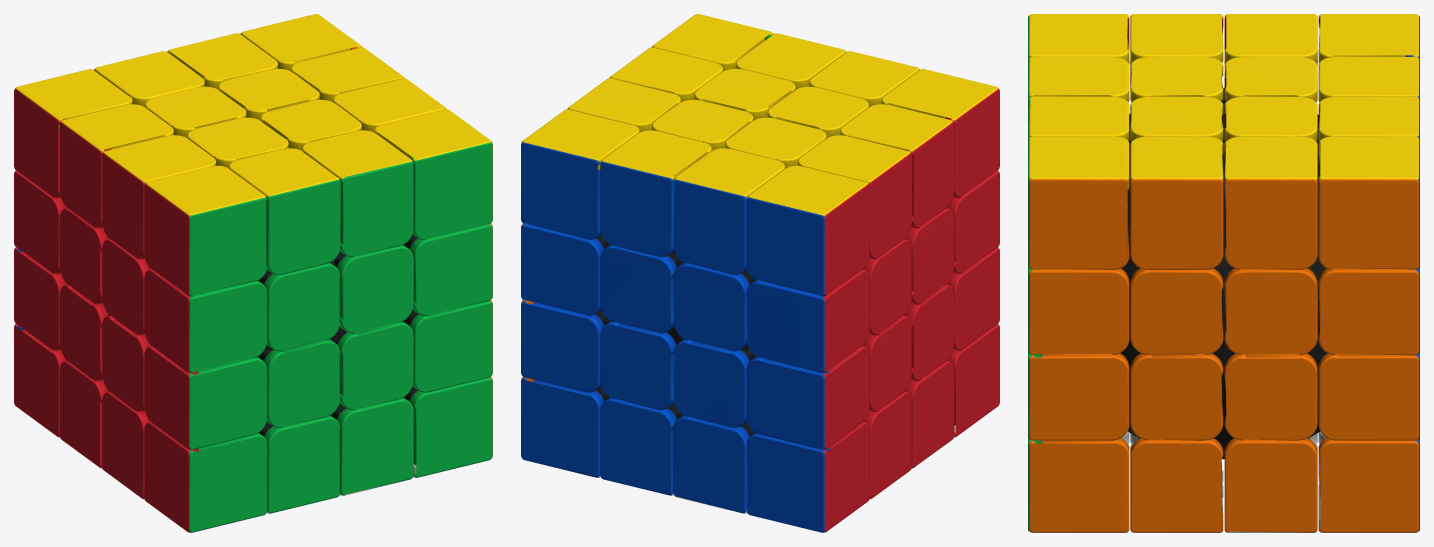
3 renders of one model, left to right at view 1: azimuth 30°, elevation 25°; view 2: azimuth 150°, elevation 25°; view 3: azimuth 270°, elevation 25°, orthographic. The views are drawn at different scales.
Parts seen in each view (by area): view 1: piece_-1.5,1.5,1.5, piece_-1.5,-1.5,1.5, piece_1.5,1.5,1.5, piece_-1.5,-0.5,1.5, piece_-1.5,0.5,1.5, piece_-0.5,1.5,1.5, piece_0.5,1.5,1.5, piece_-1.5,1.5,-1.5, piece_1.5,-1.5,1.5, piece_-1.5,1.5,-0.5, piece_-1.5,1.5,0.5, piece_0.5,-1.5,1.5 (+25 smaller); view 2: piece_-1.5,1.5,-1.5, piece_-1.5,-1.5,-1.5, piece_1.5,1.5,-1.5, piece_-1.5,-0.5,-1.5, piece_-1.5,0.5,-1.5, piece_0.5,1.5,-1.5, piece_-0.5,1.5,-1.5, piece_-1.5,1.5,1.5, piece_1.5,-1.5,-1.5, piece_-1.5,1.5,0.5, piece_-1.5,1.5,-0.5, piece_-0.5,-1.5,-1.5 (+25 smaller); view 3: piece_1.5,1.5,-1.5, piece_1.5,1.5,1.5, piece_1.5,1.5,0.5, piece_1.5,1.5,-0.5, piece_1.5,-1.5,1.5, piece_1.5,-1.5,-1.5, piece_1.5,-0.5,1.5, piece_1.5,-0.5,-1.5, piece_1.5,-1.5,-0.5, piece_1.5,0.5,1.5, piece_1.5,-1.5,0.5, piece_1.5,0.5,-1.5 (+17 smaller).
Part boxes in pixels (bbox=[...]): piece_-1.5,1.5,1.5: bbox=[144, 165, 267, 296]; piece_-1.5,-1.5,1.5: bbox=[144, 422, 267, 532]; piece_1.5,1.5,1.5: bbox=[374, 109, 492, 239]; piece_-1.5,-0.5,1.5: bbox=[144, 346, 267, 449]; piece_-1.5,0.5,1.5: bbox=[144, 269, 267, 373]; piece_-0.5,1.5,1.5: bbox=[229, 148, 340, 274]; piece_0.5,1.5,1.5: bbox=[302, 130, 413, 257]; piece_-1.5,1.5,-1.5: bbox=[14, 69, 132, 198]; piece_1.5,-1.5,1.5: bbox=[404, 377, 492, 477]; piece_-1.5,1.5,-0.5: bbox=[59, 104, 173, 228]; piece_-1.5,1.5,0.5: bbox=[102, 135, 215, 259]; piece_0.5,-1.5,1.5: bbox=[330, 397, 413, 495]; piece_-1.5,1.5,-1.5: bbox=[746, 165, 869, 296]; piece_-1.5,-1.5,-1.5: bbox=[746, 422, 869, 532]; piece_1.5,1.5,-1.5: bbox=[521, 109, 639, 239]; piece_-1.5,-0.5,-1.5: bbox=[746, 346, 869, 449]; piece_-1.5,0.5,-1.5: bbox=[746, 269, 869, 373]; piece_0.5,1.5,-1.5: bbox=[600, 130, 711, 257]; piece_-0.5,1.5,-1.5: bbox=[673, 148, 784, 274]; piece_-1.5,1.5,1.5: bbox=[881, 69, 999, 198]; piece_1.5,-1.5,-1.5: bbox=[521, 377, 609, 477]; piece_-1.5,1.5,0.5: bbox=[840, 104, 954, 228]; piece_-1.5,1.5,-0.5: bbox=[798, 135, 911, 259]; piece_-0.5,-1.5,-1.5: bbox=[673, 415, 754, 513]; piece_1.5,1.5,-1.5: bbox=[1318, 136, 1419, 269]; piece_1.5,1.5,1.5: bbox=[1028, 136, 1129, 269]; piece_1.5,1.5,0.5: bbox=[1130, 136, 1223, 269]; piece_1.5,1.5,-0.5: bbox=[1224, 136, 1317, 269]; piece_1.5,-1.5,1.5: bbox=[1028, 438, 1129, 532]; piece_1.5,-1.5,-1.5: bbox=[1318, 438, 1419, 532]; piece_1.5,-0.5,1.5: bbox=[1028, 353, 1129, 440]; piece_1.5,-0.5,-1.5: bbox=[1318, 353, 1419, 440]; piece_1.5,-1.5,-0.5: bbox=[1224, 437, 1317, 532]; piece_1.5,0.5,1.5: bbox=[1028, 267, 1129, 354]; piece_1.5,-1.5,0.5: bbox=[1130, 437, 1223, 532]; piece_1.5,0.5,-1.5: bbox=[1318, 267, 1419, 355].
Size of the model in its own units: 2 by 2 by 2.
